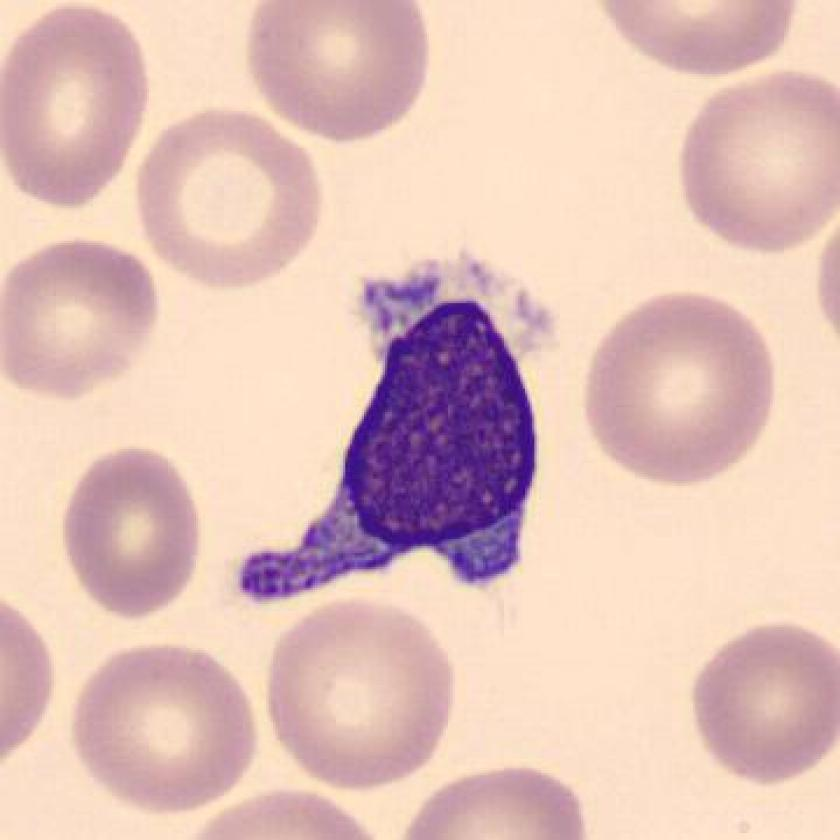lymphocyte: (228, 235, 592, 621)
